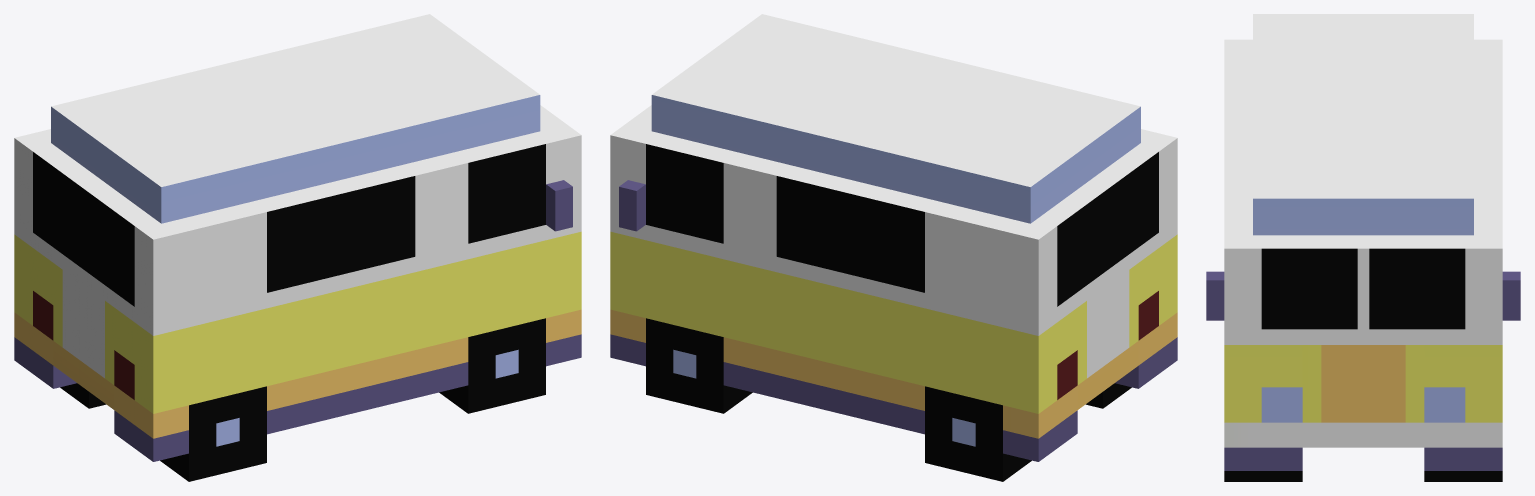
File: car2.FBX
The picture shows the model from 3 angles, left to right: view 1: azimuth 30°, elevation 25°; view 2: azimuth 150°, elevation 25°; view 3: azimuth 270°, elevation 25°; orthographic projection.
Visible parts, largest first — view 1: Box002; view 2: Box002; view 3: Box002.
Boxes of the visible parts, x1,y1,x2,y2 form: Box002: (14,14,581,481); Box002: (610,14,1177,481); Box002: (1206,14,1520,481).
Size of the model in its own units: 270 by 173 by 172.
